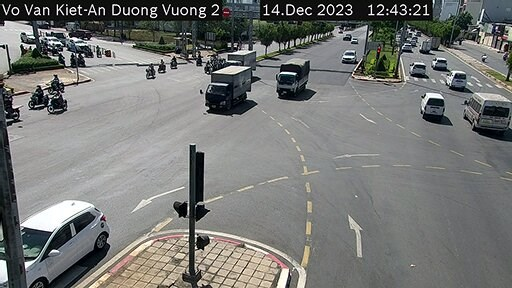car: (2, 208, 116, 288), (464, 82, 504, 126), (412, 87, 448, 123), (402, 60, 431, 77), (443, 71, 465, 91), (342, 46, 362, 65), (425, 55, 445, 73)
motorbike: (23, 84, 46, 112), (41, 91, 67, 111), (141, 62, 160, 80), (152, 56, 163, 80), (47, 75, 62, 92)
truck: (212, 66, 263, 119), (276, 58, 309, 109), (220, 47, 261, 69)
